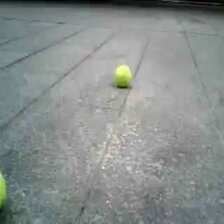tennis: (115, 65, 133, 84)
